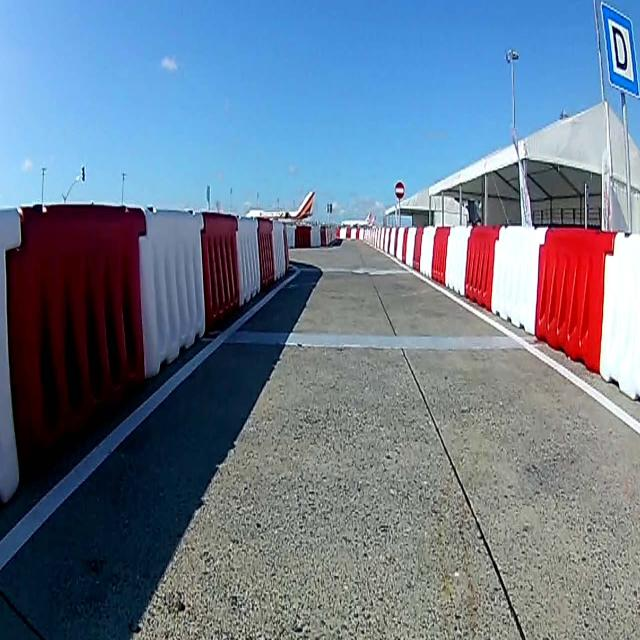durak: (601, 2, 640, 97)
girisyok: (394, 180, 404, 200)
